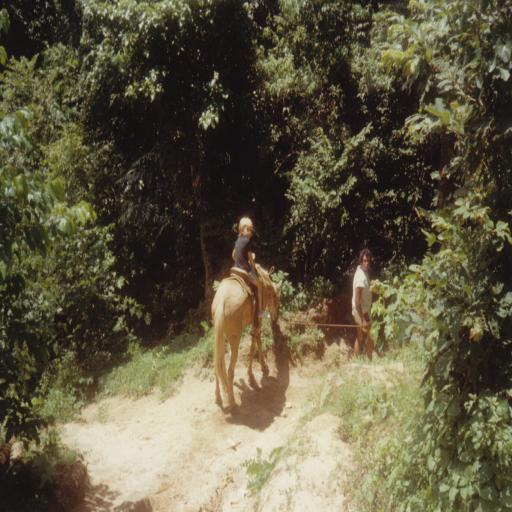horse: (211, 261, 285, 405)
